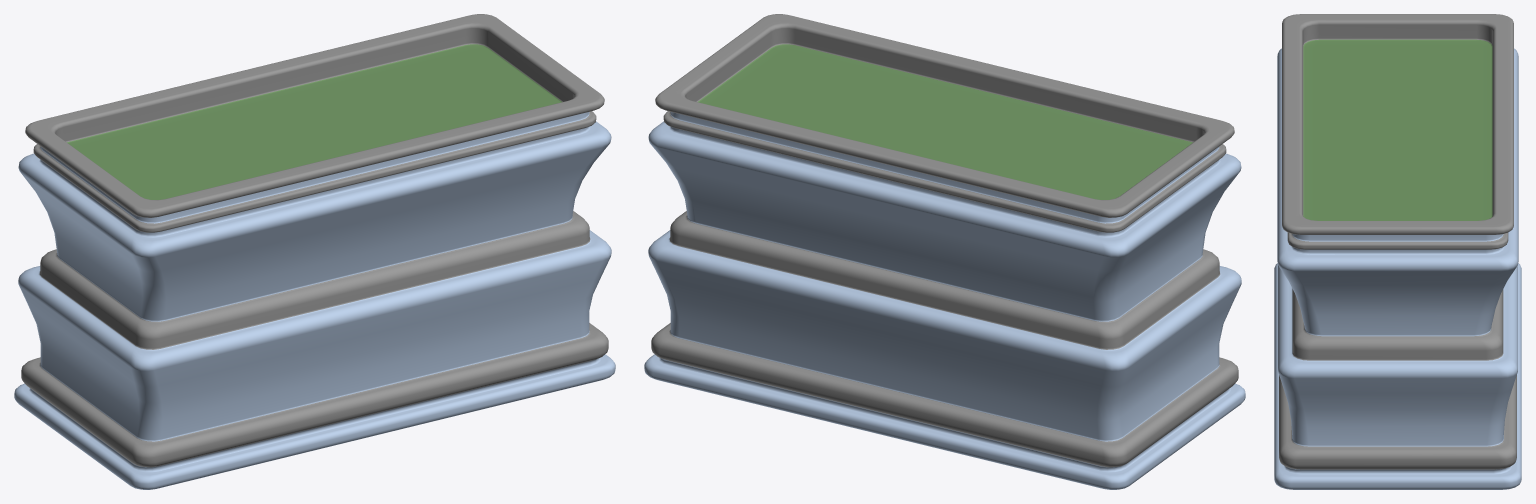
File: SM_Building_05_Part_06.fbx
3 renders of one model, left to right at view 1: azimuth 30°, elevation 25°; view 2: azimuth 150°, elevation 25°; view 3: azimuth 270°, elevation 25°, orthographic. The views are drawn at different scales.
Parts seen in each view (by area): view 1: SM_Building_05_Part_06; view 2: SM_Building_05_Part_06; view 3: SM_Building_05_Part_06.
Part boxes in pixels (x1,y1,x2,y2): SM_Building_05_Part_06: (14, 14, 615, 489); SM_Building_05_Part_06: (644, 14, 1245, 489); SM_Building_05_Part_06: (1274, 14, 1521, 489).
Bounding box in the file's own units: 4059 × 2220 × 1912.
